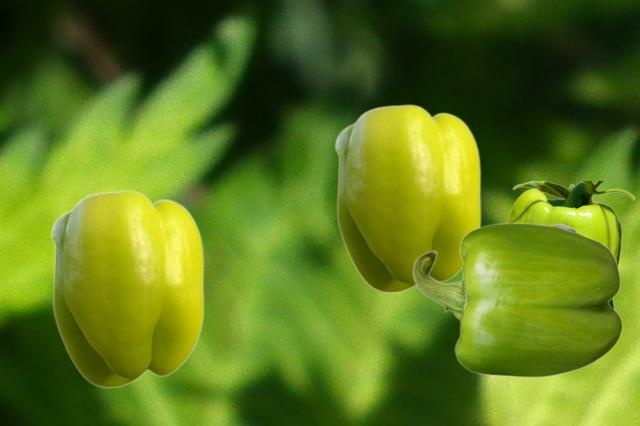bell_pepper: (412, 222, 622, 377), (50, 189, 203, 387), (334, 103, 480, 292), (506, 181, 634, 308)
